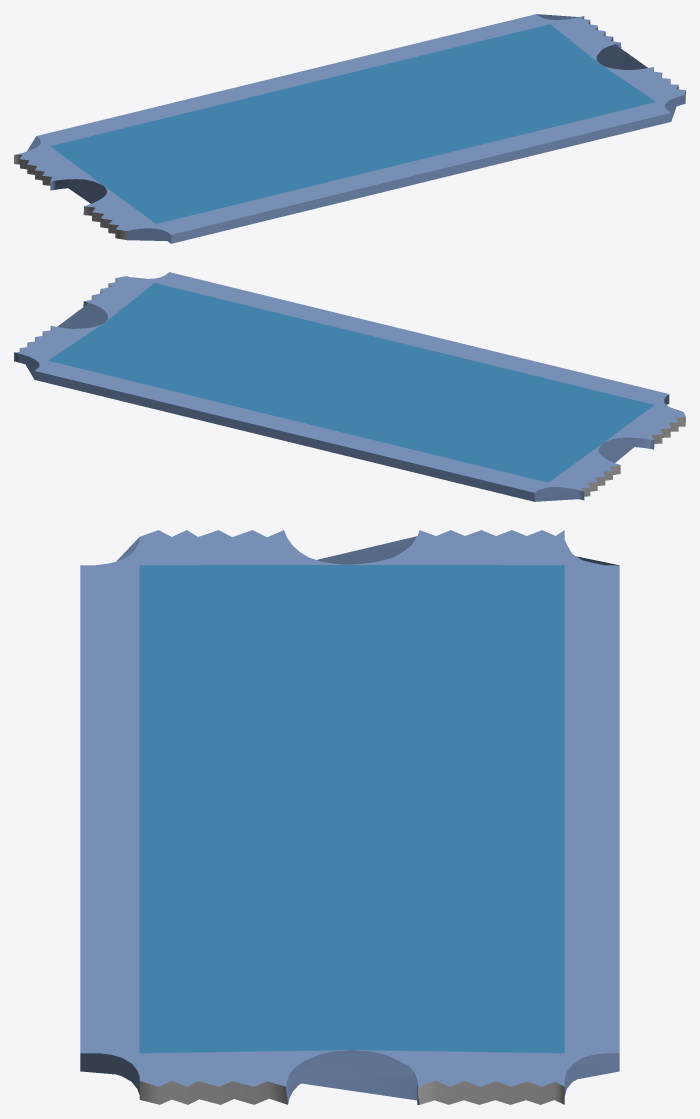
Rendered from Ticket.fbx.
The picture shows the model from 3 angles, top to bottom: view 1: azimuth 30°, elevation 25°; view 2: azimuth 150°, elevation 25°; view 3: azimuth 270°, elevation 25°; orthographic projection. The views are drawn at different scales.
Parts seen in each view (by area): view 1: pCube1; view 2: pCube1; view 3: pCube1.
Part boxes in pixels (<box>): pCube1: <box>14,14,685,243</box>; pCube1: <box>14,272,685,501</box>; pCube1: <box>80,530,619,1104</box>.
Bounding box in the file's own units: 2.24 × 0.034 × 0.9179.
